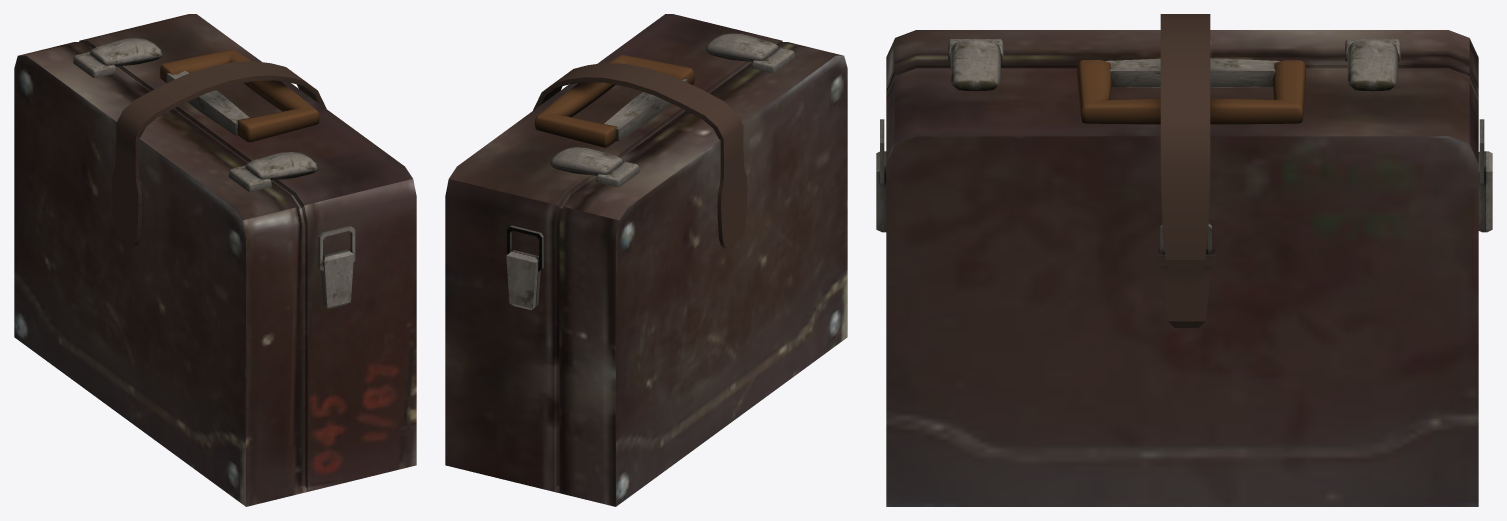
Rendered from vali.glb.
The picture shows the model from 3 angles, left to right: view 1: azimuth 30°, elevation 25°; view 2: azimuth 150°, elevation 25°; view 3: azimuth 270°, elevation 25°; orthographic projection. The views are drawn at different scales.
Parts seen in each view (by area): view 1: vali; view 2: vali; view 3: vali.
Boxes of the visible parts, <box> form: vali: <box>14,14,416,506</box>; vali: <box>445,14,847,506</box>; vali: <box>876,14,1492,506</box>.
Bounding box in the file's own units: 0.3171 × 0.4965 × 0.658.
Materials: 1 (1 with a texture image).
